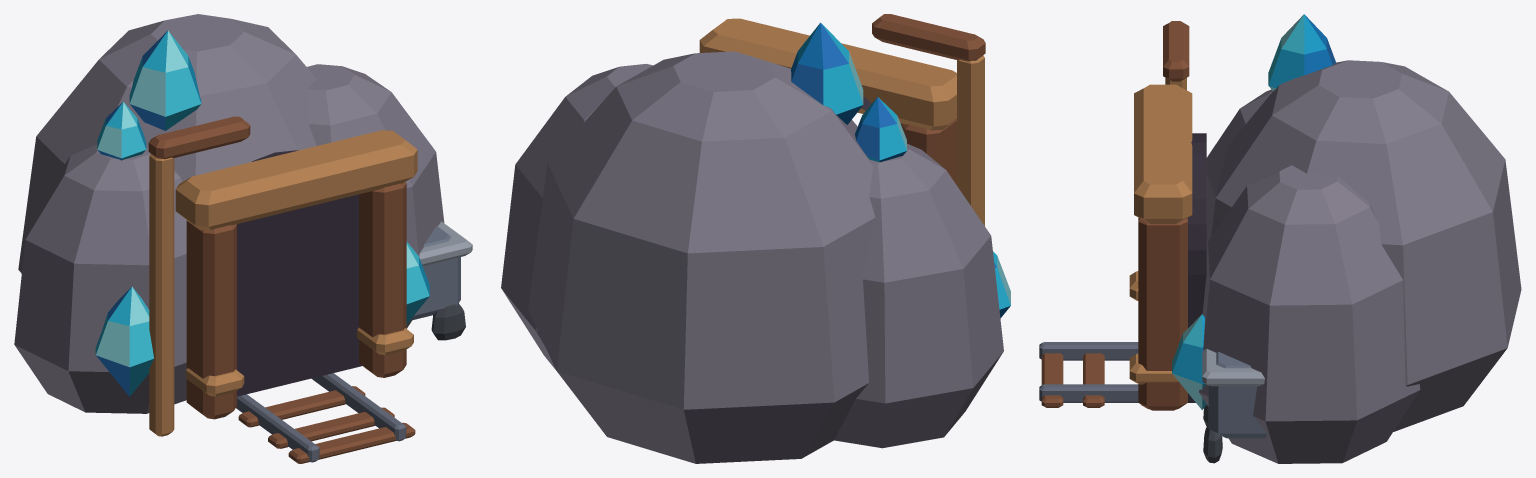
File: mine.glb
3 renders of one model, left to right at view 1: azimuth 30°, elevation 25°; view 2: azimuth 150°, elevation 25°; view 3: azimuth 270°, elevation 25°, orthographic. The views are drawn at different scales.
Parts seen in each view (by area): view 1: Base, Upgrade2, Upgrade3; view 2: Base, Upgrade3; view 3: Base, Upgrade2, Upgrade3.
Part boxes in pixels (x1,y1,x2,y2): Base: [14, 14, 444, 419]; Upgrade2: [236, 221, 472, 463]; Upgrade3: [148, 116, 250, 436]; Base: [501, 18, 1010, 463]; Upgrade3: [872, 14, 985, 225]; Base: [1129, 14, 1521, 463]; Upgrade2: [1039, 342, 1267, 463]; Upgrade3: [1163, 21, 1189, 90].
Bounding box in the file's own units: 2.16 × 1.72 × 2.22.
